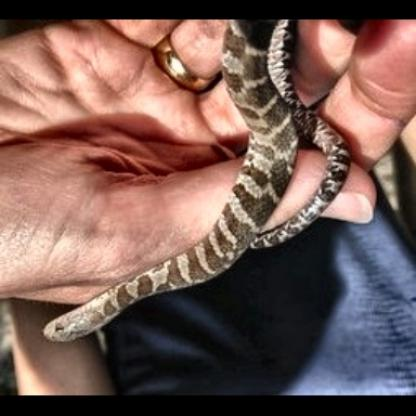Snake: (190, 16, 352, 284), (32, 276, 151, 345)
